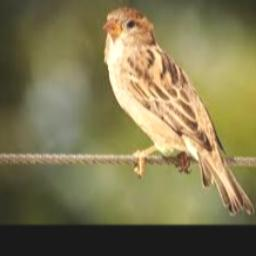Sparrow: (103, 6, 255, 215)
